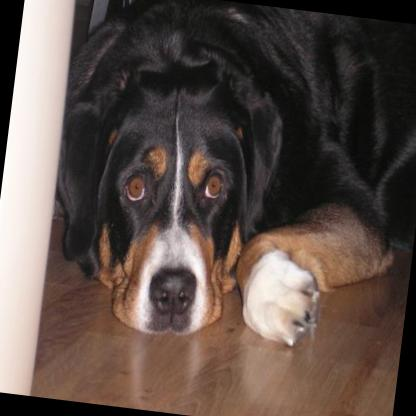Greater_Swiss_Mountain_dog: (35, 0, 416, 357)
